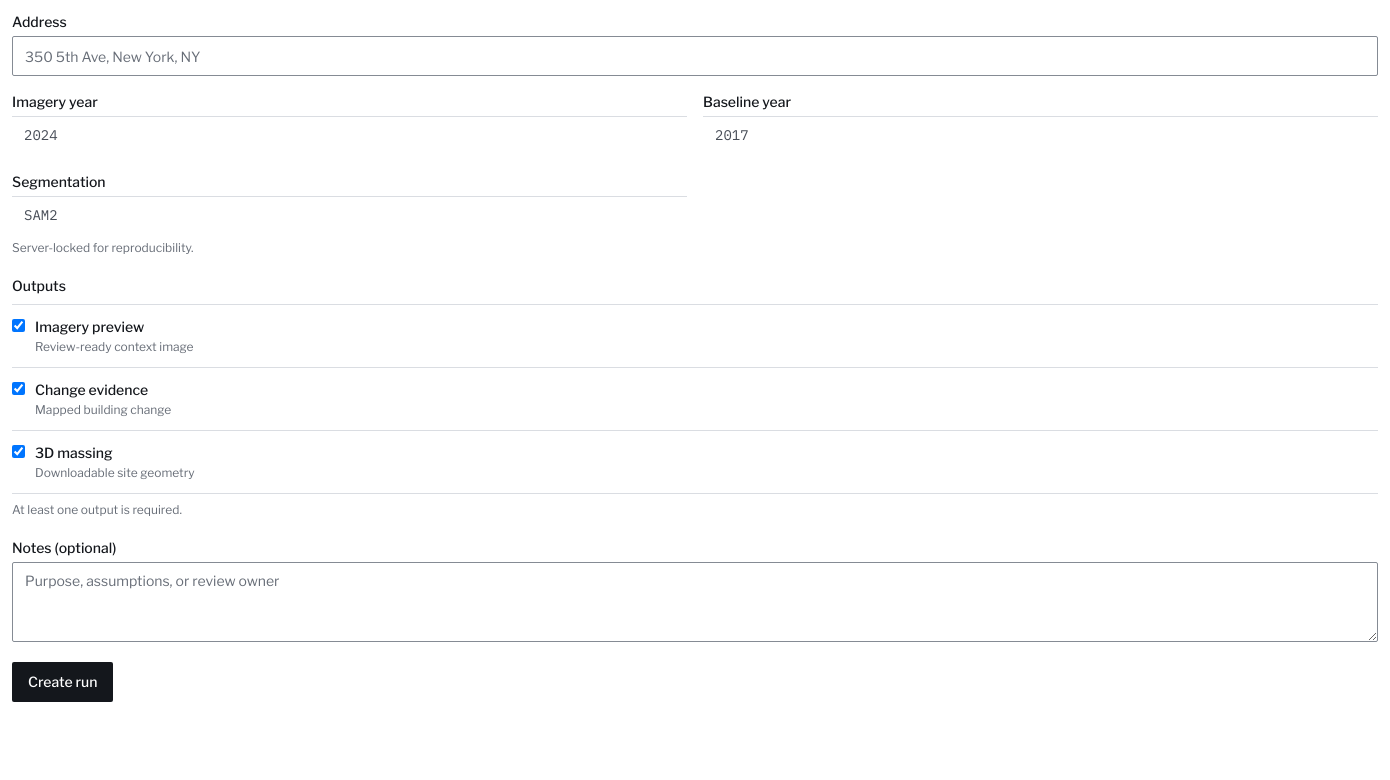
it: RunForm › places output validation under the choices and does not create an invalid run
Type "100 E 21st St Brooklyn, NY" into the field with test id "run-address-input". click: (695, 56)
box: [12,36,1378,76]
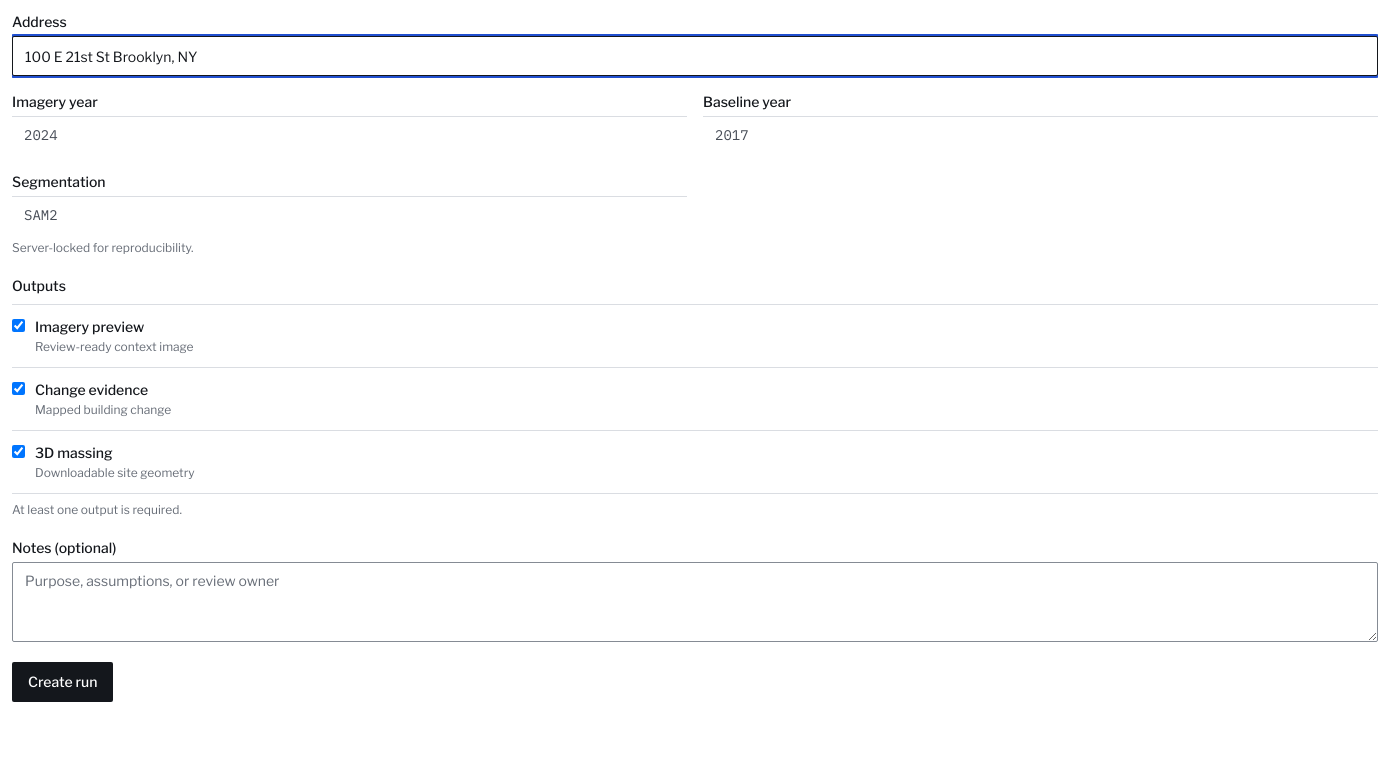
Click the checkbox labelled "Imagery preview Review-ready context image". click: (18, 326)
box: [12,319,25,332]
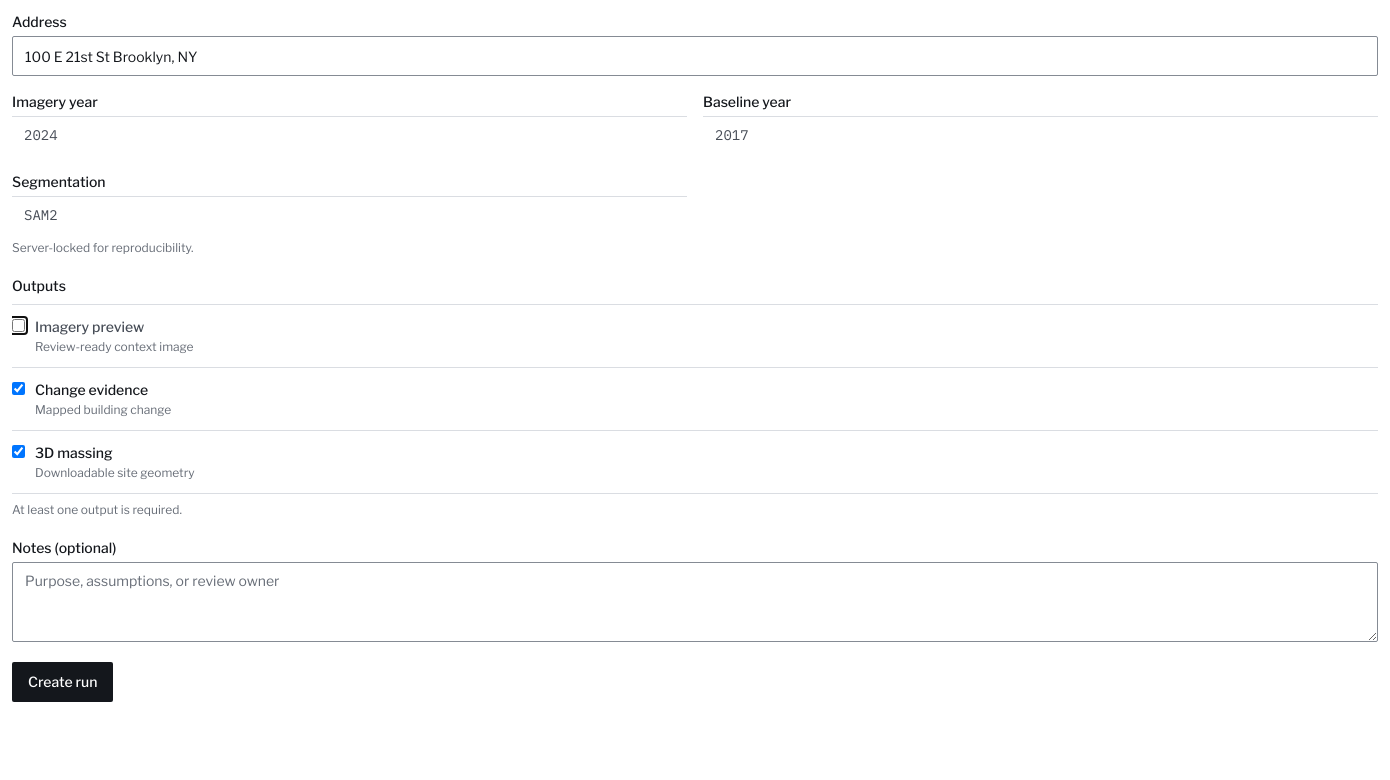
Click the checkbox labelled "Change evidence Mapped building change". click: (18, 388)
box: [12,382,25,395]
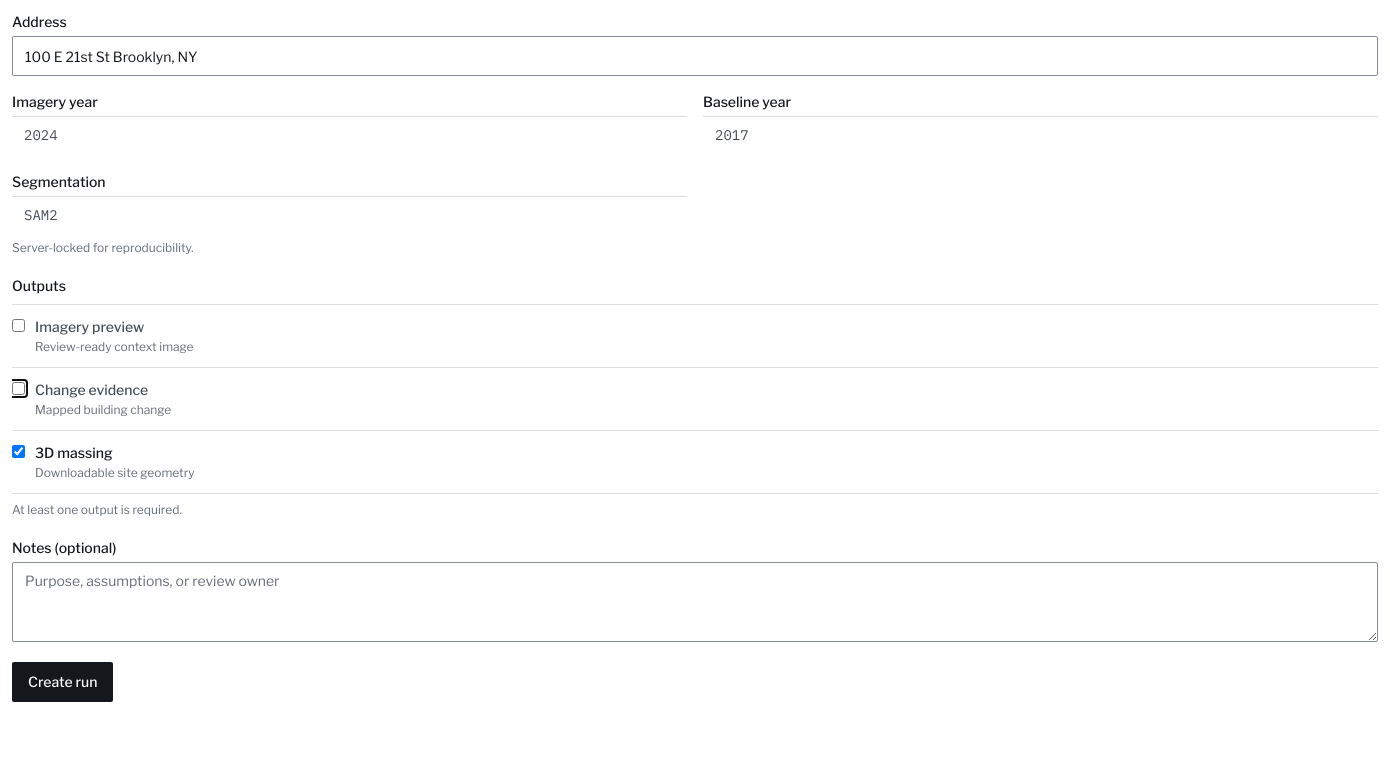
Click the checkbox labelled "3D massing Downloadable site geometry". click: (18, 452)
box: [12,445,25,458]
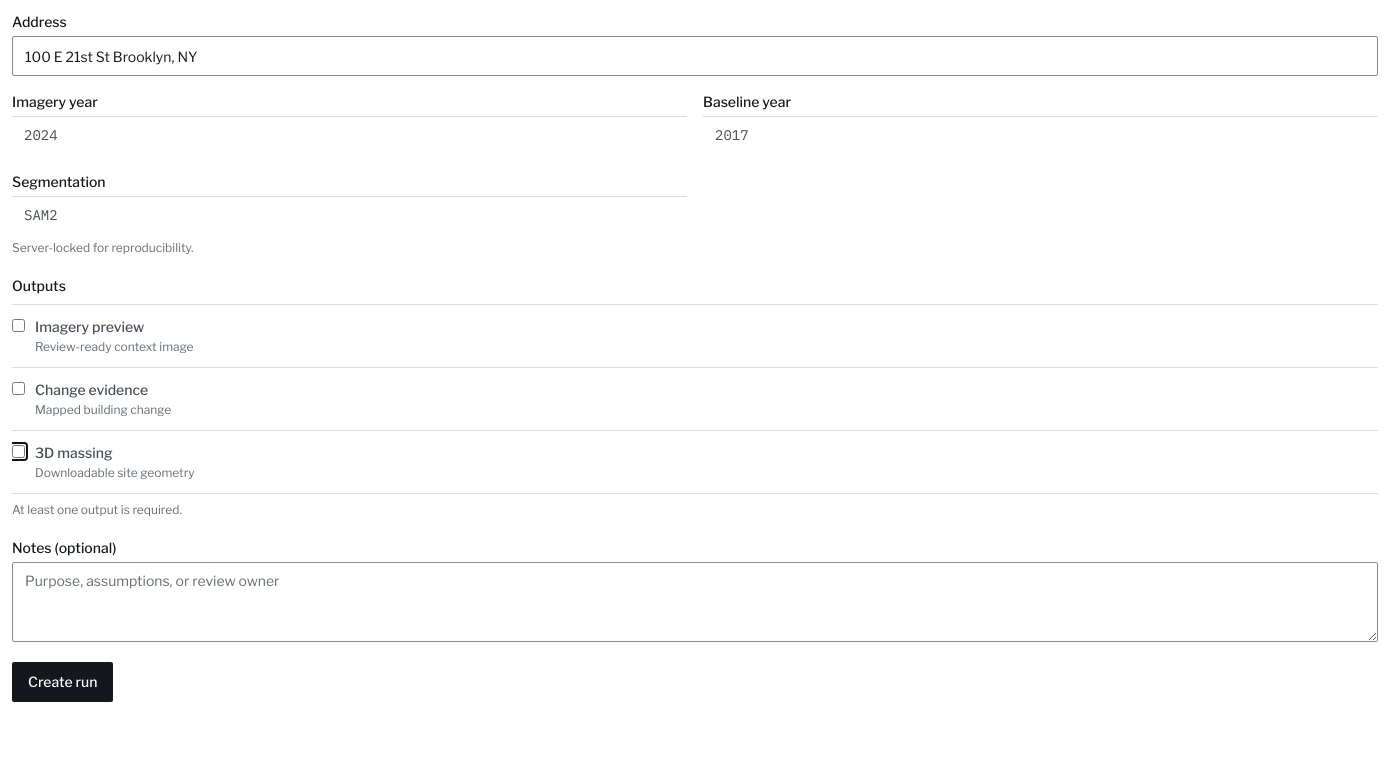
Submit the form with test id "run-form"
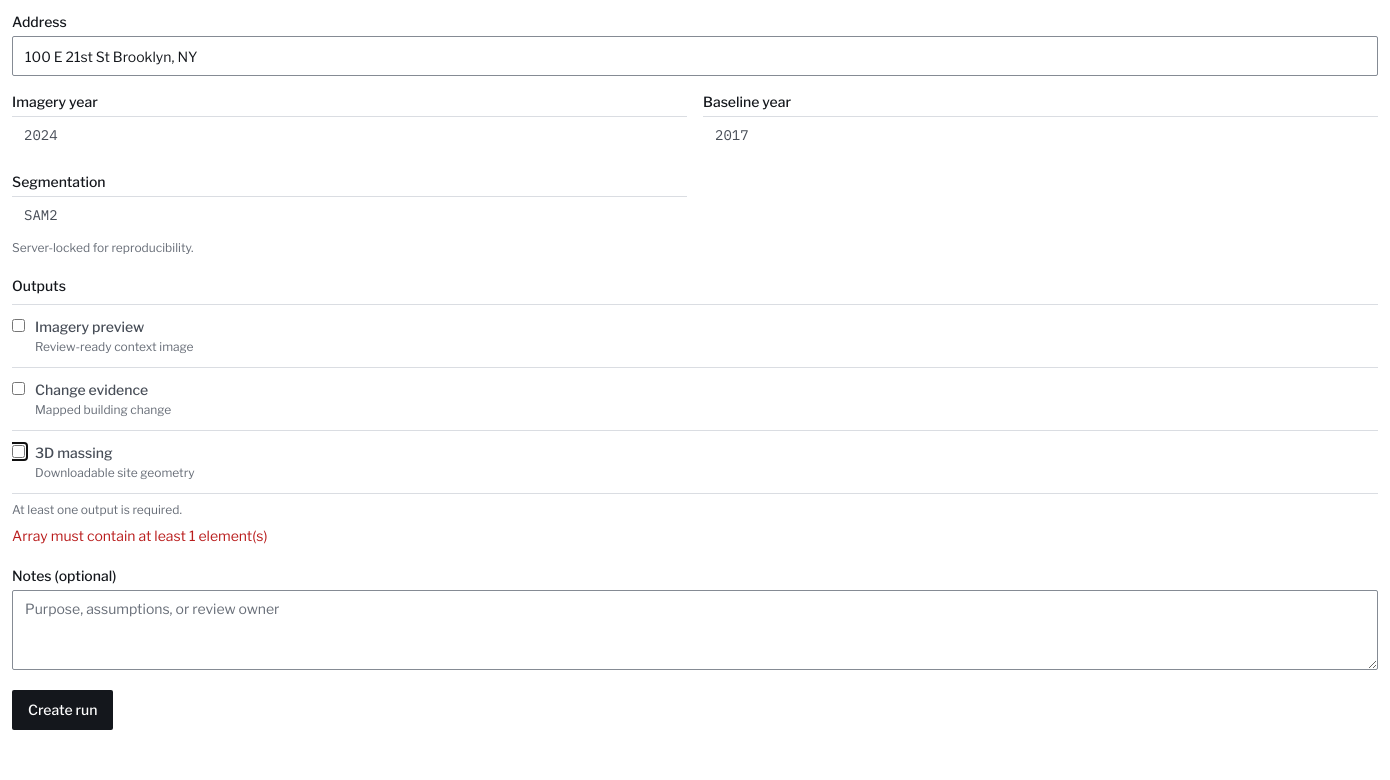
Expected: the message "Array must contain at least 1 element(s)" is shown, [12,527,267,544]
